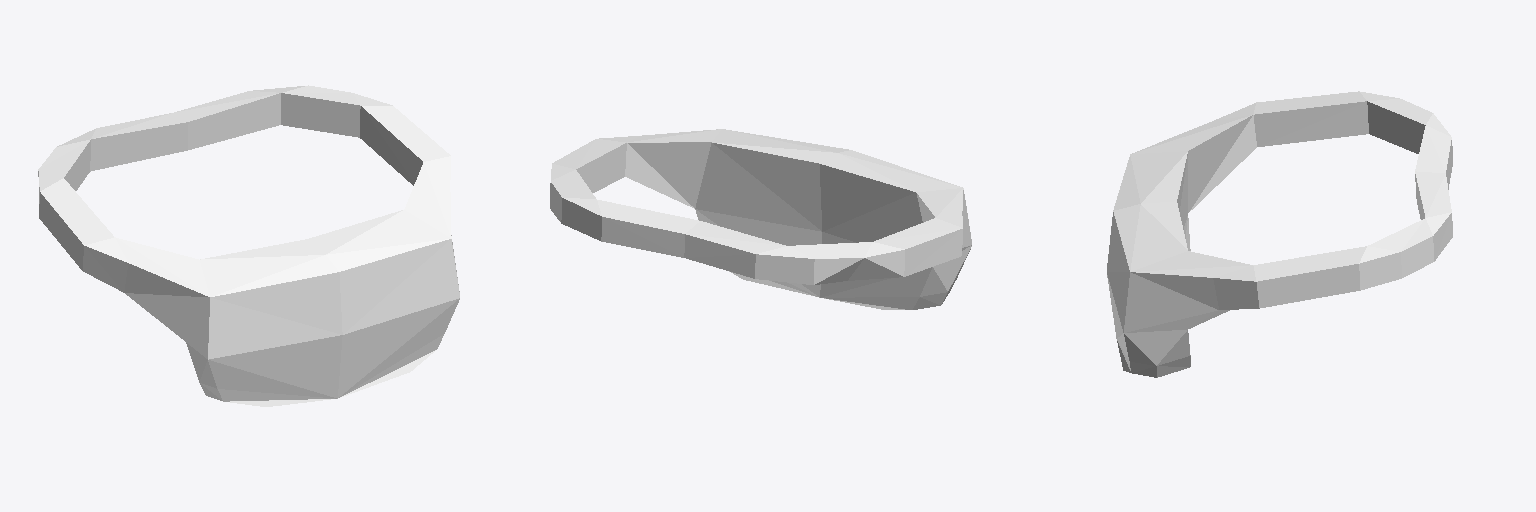
Rendered from 4u9hilmgcm61.obj.
3 views of the same model, side by side, from view 1: azimuth 30°, elevation 25°; view 2: azimuth 150°, elevation 25°; view 3: azimuth 270°, elevation 25° (orthographic).
Parts seen in each view (by area): view 1: F_FannyPackFront; view 2: F_FannyPackFront; view 3: F_FannyPackFront.
Boxes of the visible parts, <box> form: F_FannyPackFront: <box>38,85,459,406</box>; F_FannyPackFront: <box>550,129,971,309</box>; F_FannyPackFront: <box>1107,91,1452,377</box>.
Size of the model in its own units: 0.1693 by 0.0756 by 0.1384.